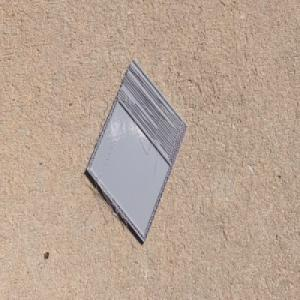PlasticPart: (85, 58, 189, 244)
